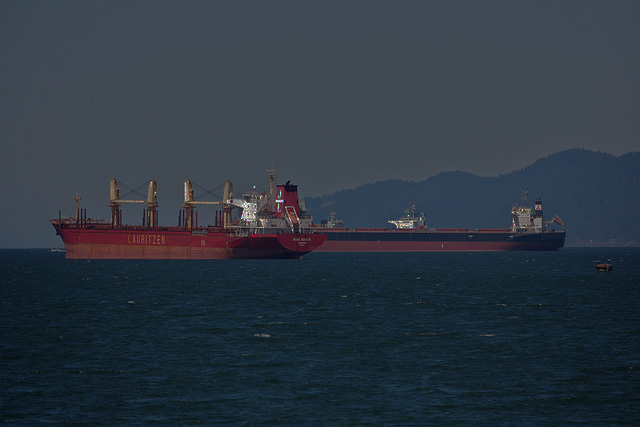bulk carrier: (49, 170, 317, 261), (320, 206, 568, 254)
